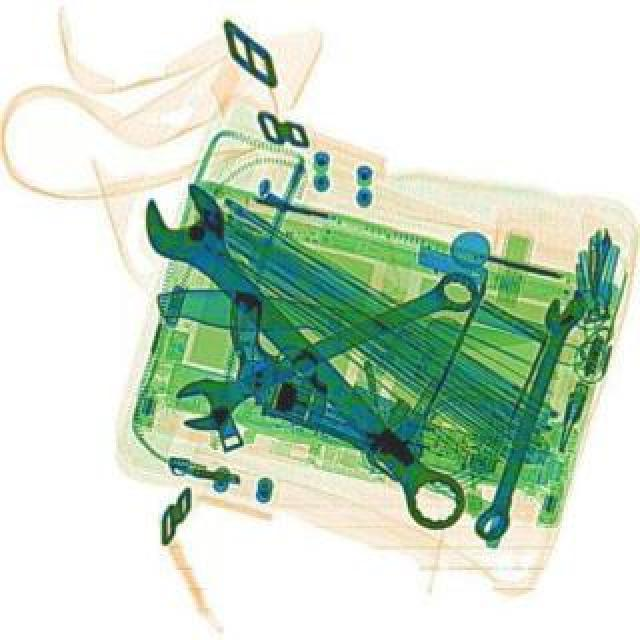gun: (198, 290, 442, 454)
knife: (160, 282, 534, 358)
scissors: (126, 170, 486, 546), (166, 254, 490, 442), (474, 284, 594, 544)
